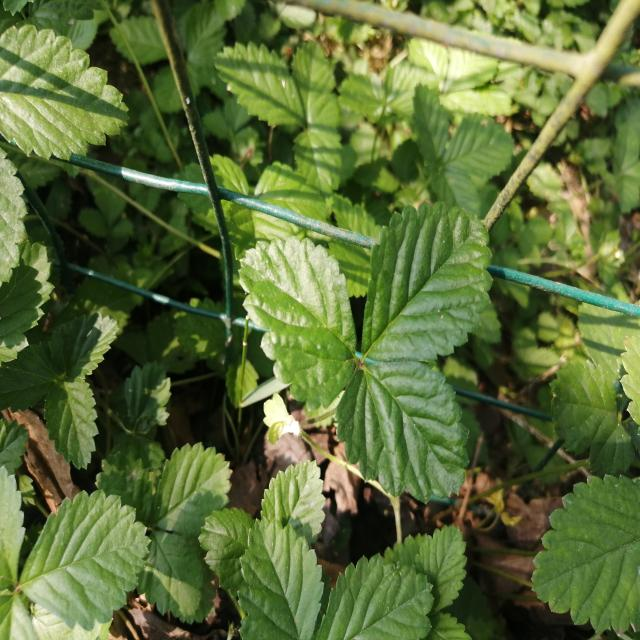Mock_strawberry: (247, 205, 503, 498)
